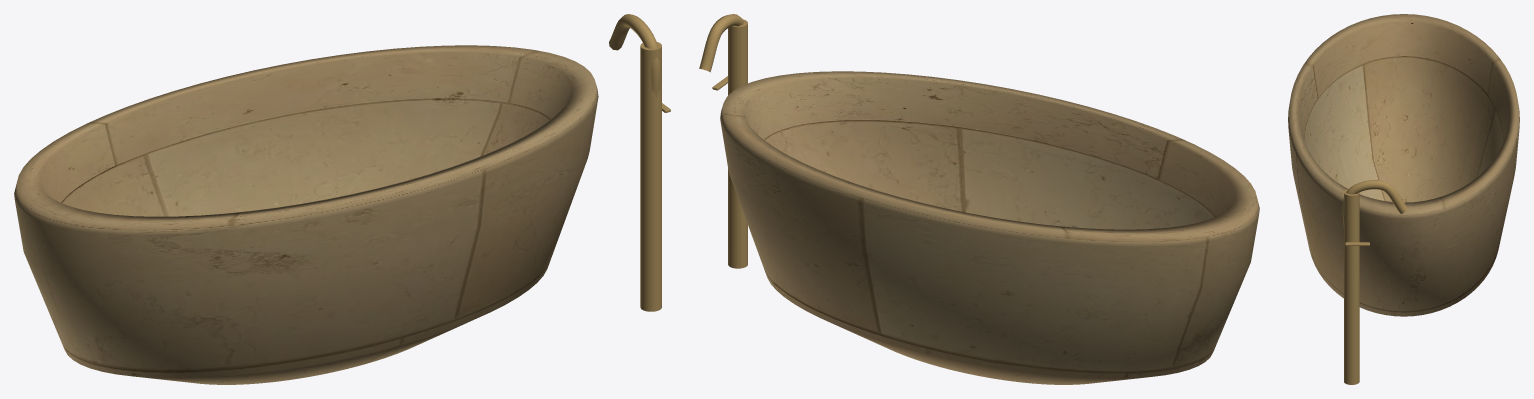
The model's file is luxury-oval-bath.glb.
The picture shows the model from 3 angles, left to right: view 1: azimuth 30°, elevation 25°; view 2: azimuth 150°, elevation 25°; view 3: azimuth 270°, elevation 25°; orthographic projection. The views are drawn at different scales.
Visible parts, largest first — view 1: stone_0, bronze_2; view 2: stone_0, bronze_2; view 3: stone_0, bronze_2.
Part boxes in pixels (x1=…): stone_0: x1=14, y1=45, x2=598, y2=384; bronze_2: x1=609, y1=14, x2=670, y2=311; stone_0: x1=720, y1=71, x2=1259, y2=384; bronze_2: x1=699, y1=14, x2=747, y2=268; stone_0: x1=1288, y1=14, x2=1519, y2=316; bronze_2: x1=1342, y1=180, x2=1407, y2=384.
Size of the model in its own units: 1.74 by 0.7667 by 0.8.
3 materials, 1 textured.
